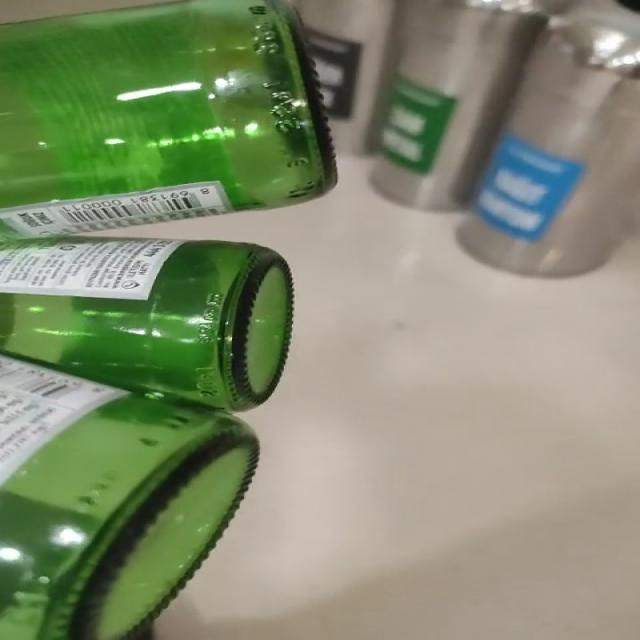glass: (1, 0, 336, 640)
